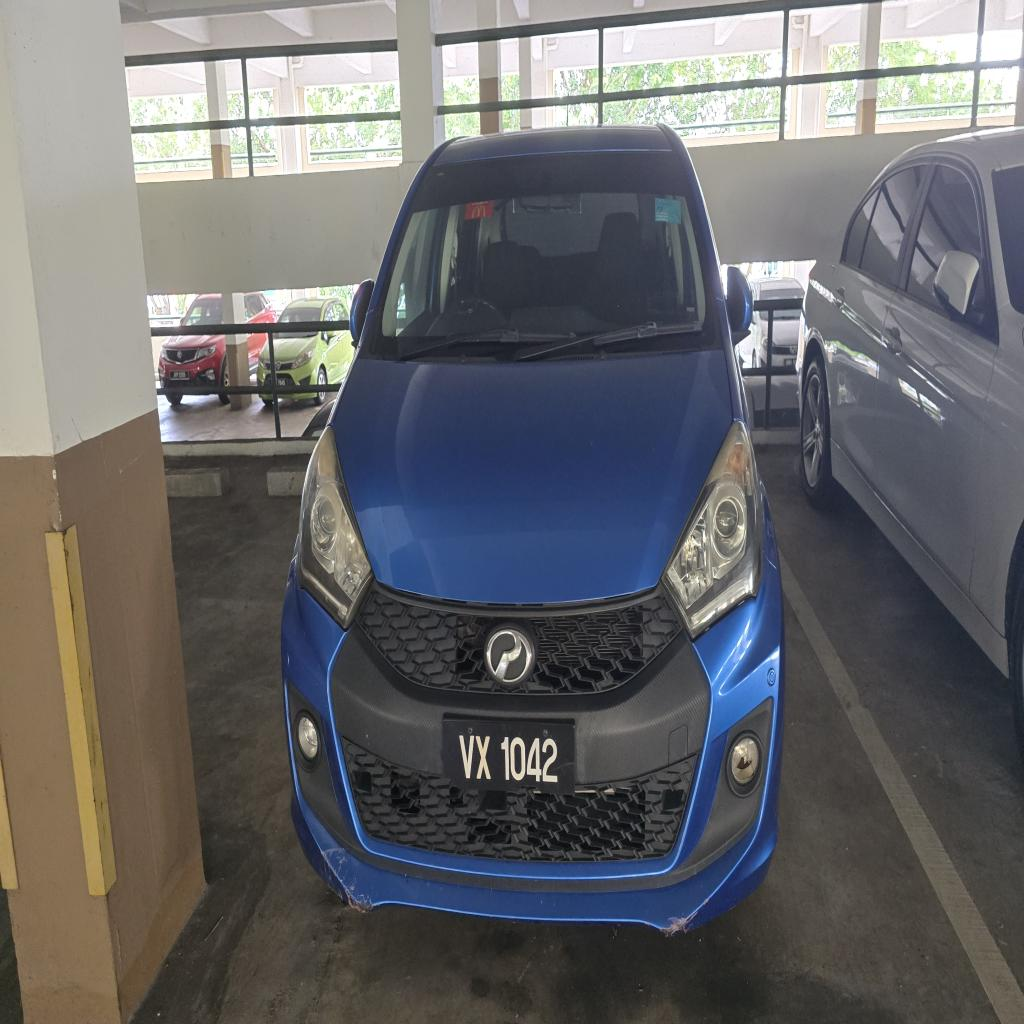car: (282, 128, 783, 931)
car plate: (443, 718, 574, 793)
